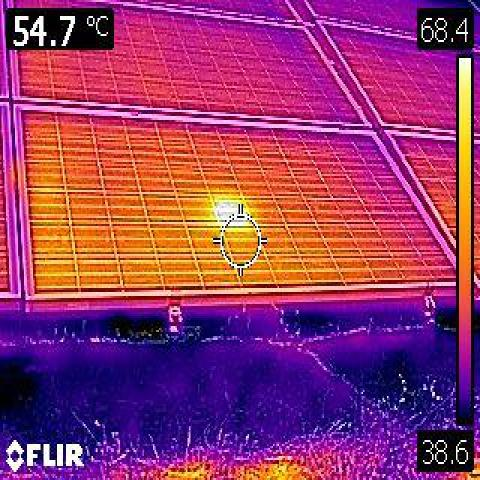fault: (214, 196, 247, 228)
